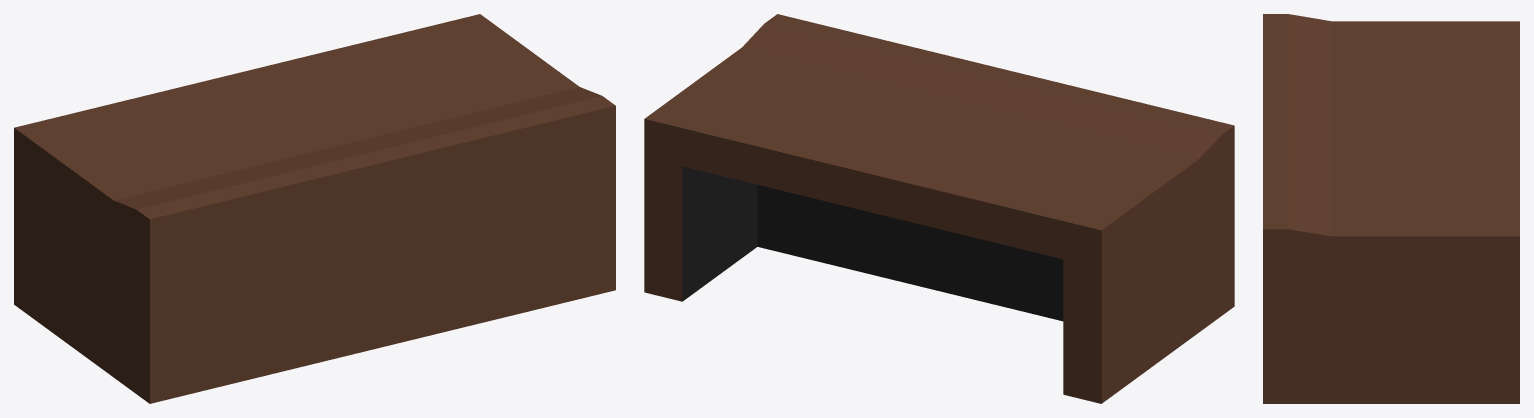
Rendered from Desk.fbx.
The picture shows the model from 3 angles, left to right: view 1: azimuth 30°, elevation 25°; view 2: azimuth 150°, elevation 25°; view 3: azimuth 270°, elevation 25°; orthographic projection. The views are drawn at different scales.
Parts seen in each view (by area): view 1: Cube.005; view 2: Cube.005; view 3: Cube.005.
Part boxes in pixels (x1,y1,x2,y2): Cube.005: (14,14,615,403); Cube.005: (644,14,1234,403); Cube.005: (1263,14,1519,403).
Size of the model in its own units: 276 by 105 by 139.
1 material, 1 textured.
